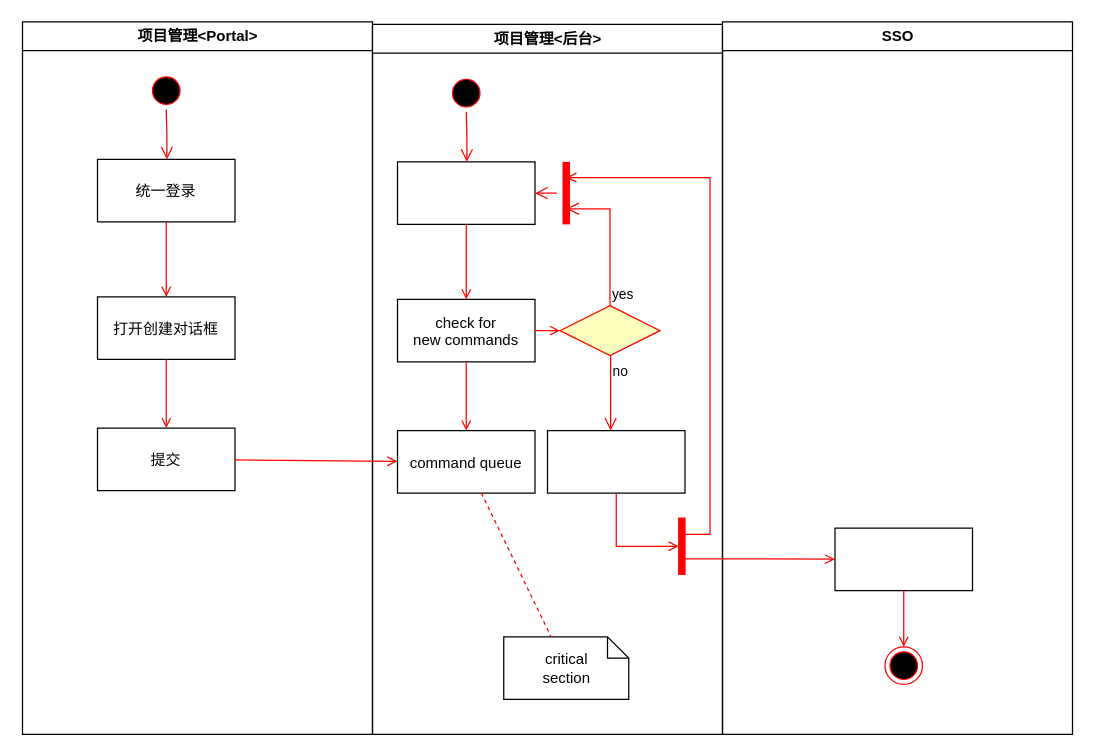
This 1094x756 diagram has some shape labels left out. The centre of each missing label's shape, as x and y in pixels:
"dispatch command worker thread" goes at [615,461].
"idle" goes at [465,192].
"process command" goes at [903,559].
"queue empty" goes at [609,330].
